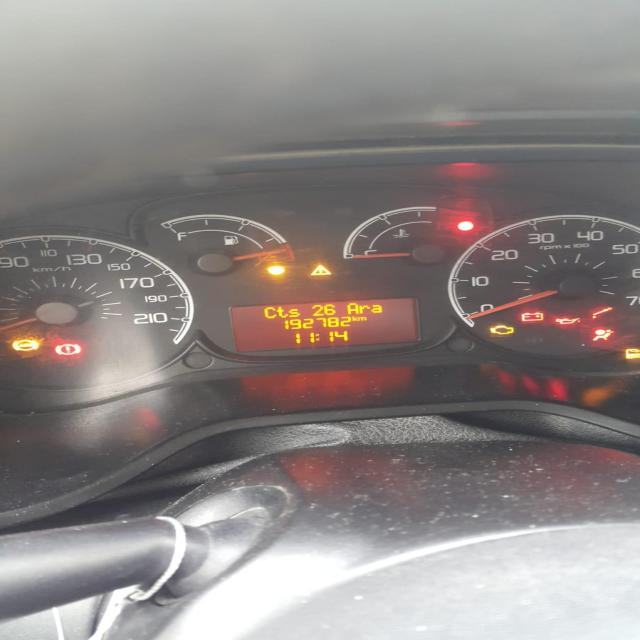odometer: (227, 296, 426, 352)
